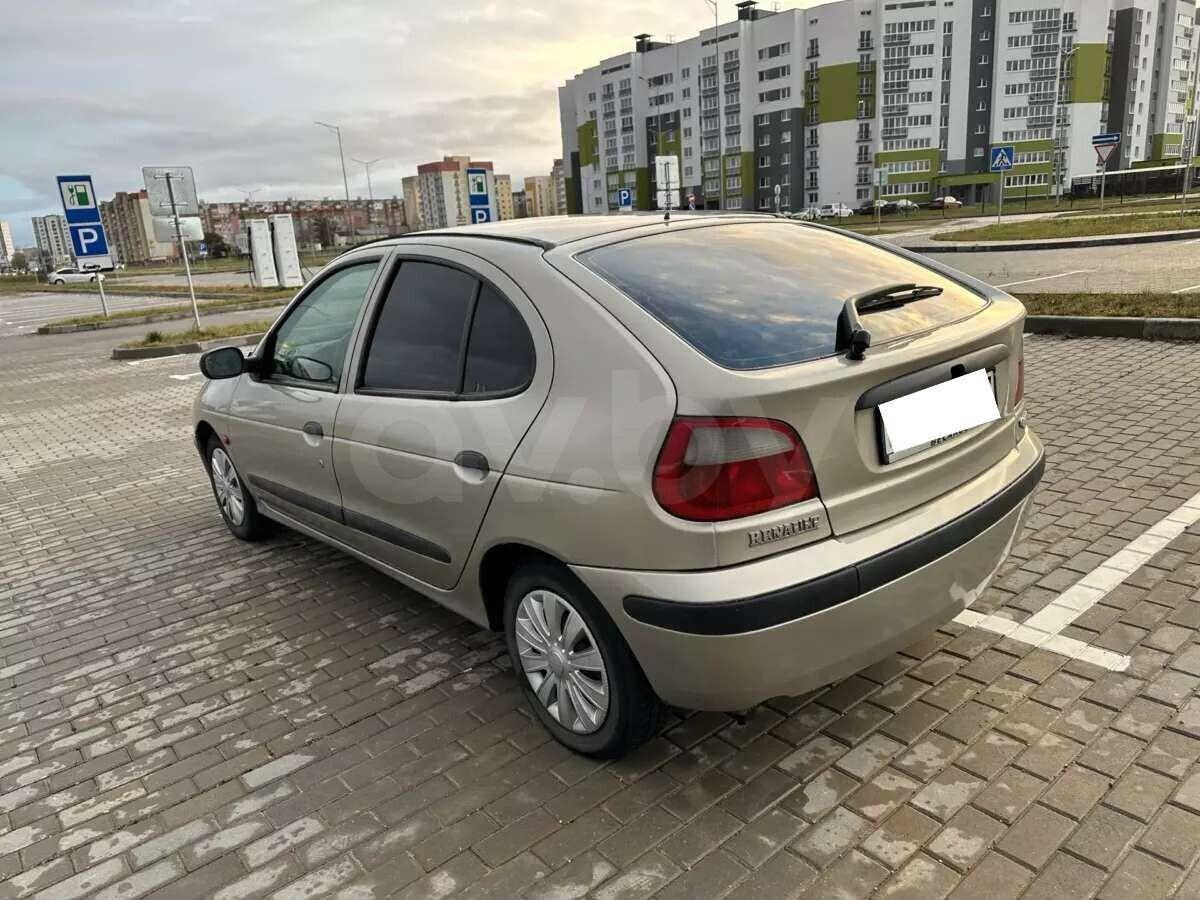Megane_1999-2003: (186, 216, 1045, 751)
